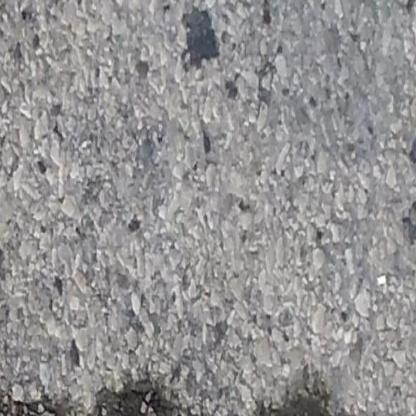Cracks: (0, 375, 365, 416)
